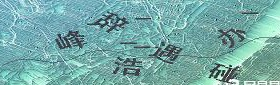chinese: (52, 28, 88, 56), (112, 51, 147, 79), (206, 60, 243, 84), (94, 10, 129, 35), (217, 28, 253, 52), (153, 38, 184, 65)
